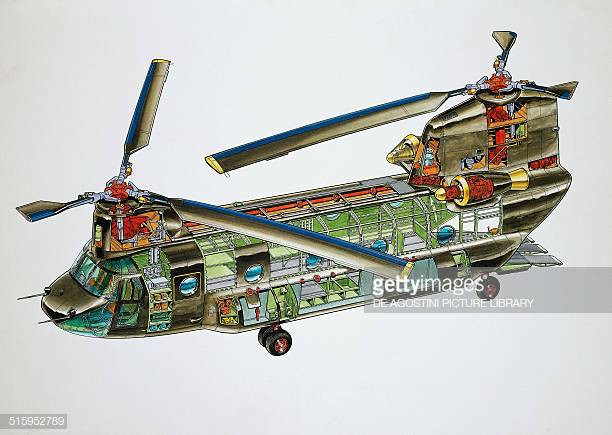chinook: (51, 73, 576, 355)
